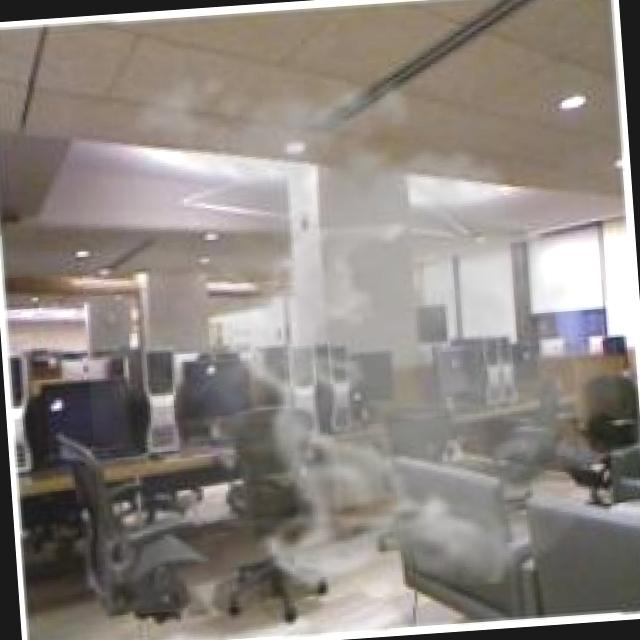smoke: (236, 151, 451, 587)
